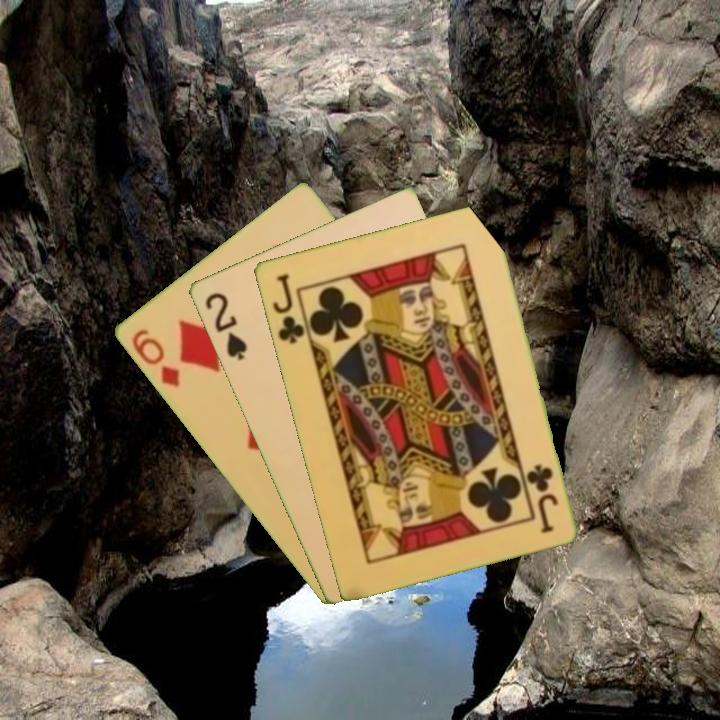2s: (201, 288, 250, 363)
6d: (127, 325, 183, 390)
Jc: (268, 269, 312, 347), (523, 460, 561, 536)
